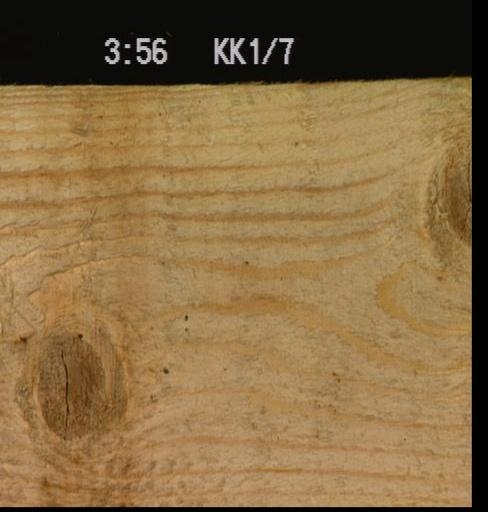sound_knot: (32, 335, 106, 437), (435, 140, 470, 245)
